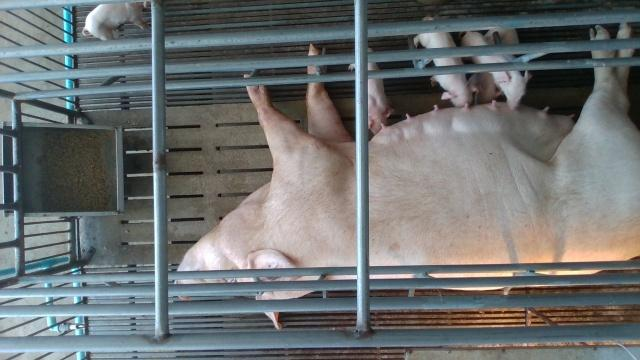piglet: (413, 15, 480, 108), (456, 30, 533, 110), (466, 27, 520, 104), (349, 48, 388, 136), (82, 2, 149, 41)
sow-sleep-lactate: (174, 22, 640, 330)
